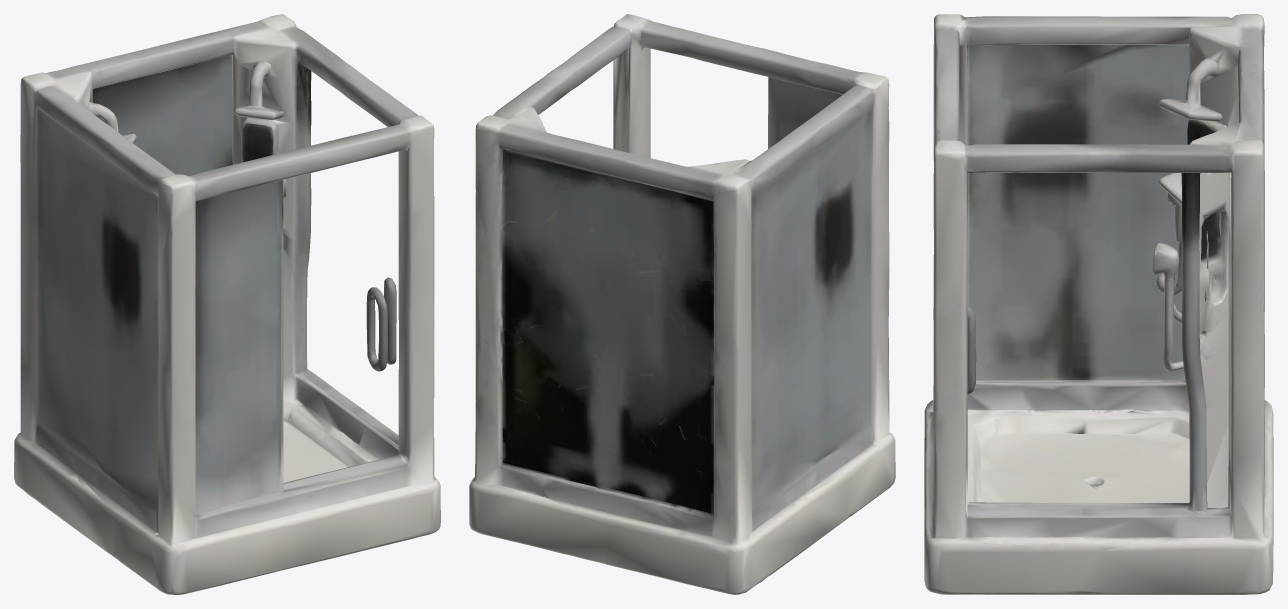
Rendered from shower.glb.
3 renders of one model, left to right at view 1: azimuth 30°, elevation 25°; view 2: azimuth 150°, elevation 25°; view 3: azimuth 270°, elevation 25°, orthographic. The views are drawn at different scales.
Visible parts, largest first — view 1: geometry_0; view 2: geometry_0; view 3: geometry_0.
Boxes of the visible parts, x1,y1,x2,y2 form: geometry_0: (14, 14, 440, 594); geometry_0: (469, 14, 895, 594); geometry_0: (924, 14, 1273, 594).
Size of the model in its own units: 0.7183 by 1 by 0.7194.
Materials: 1 (1 with a texture image).
